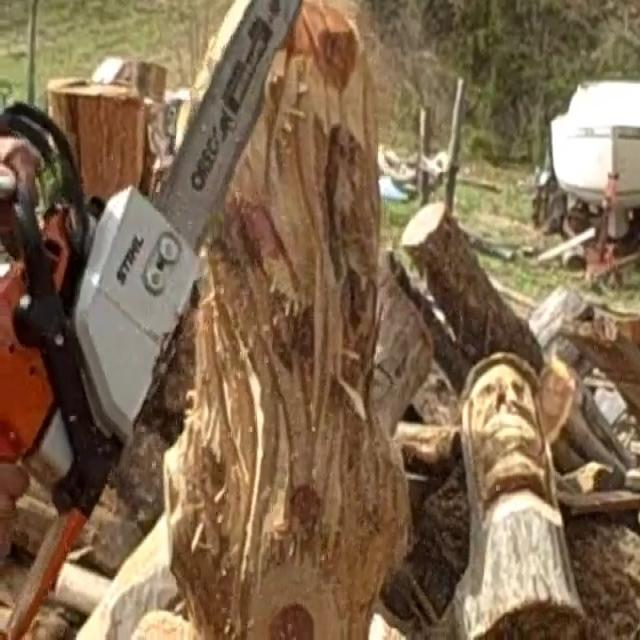Chainsaw: (0, 0, 311, 533)
